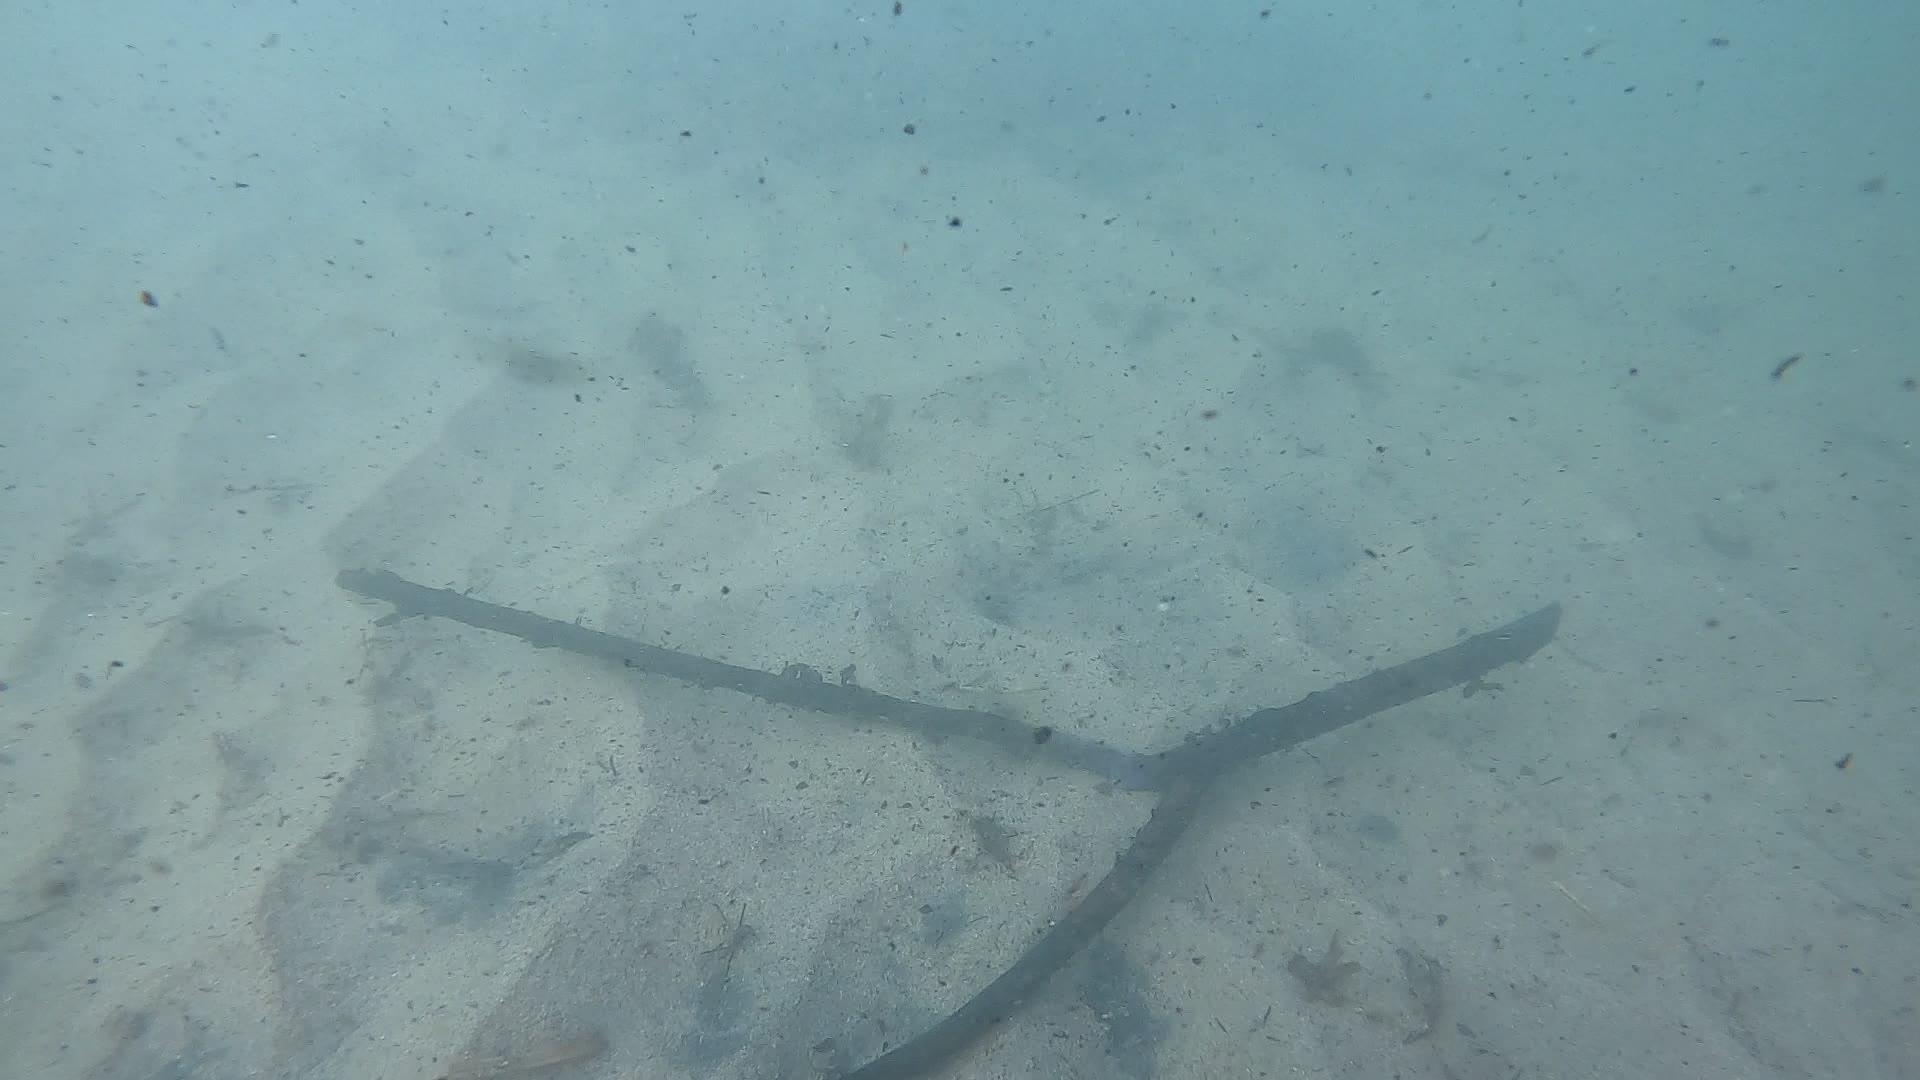wood: (340, 562, 1563, 1080)
